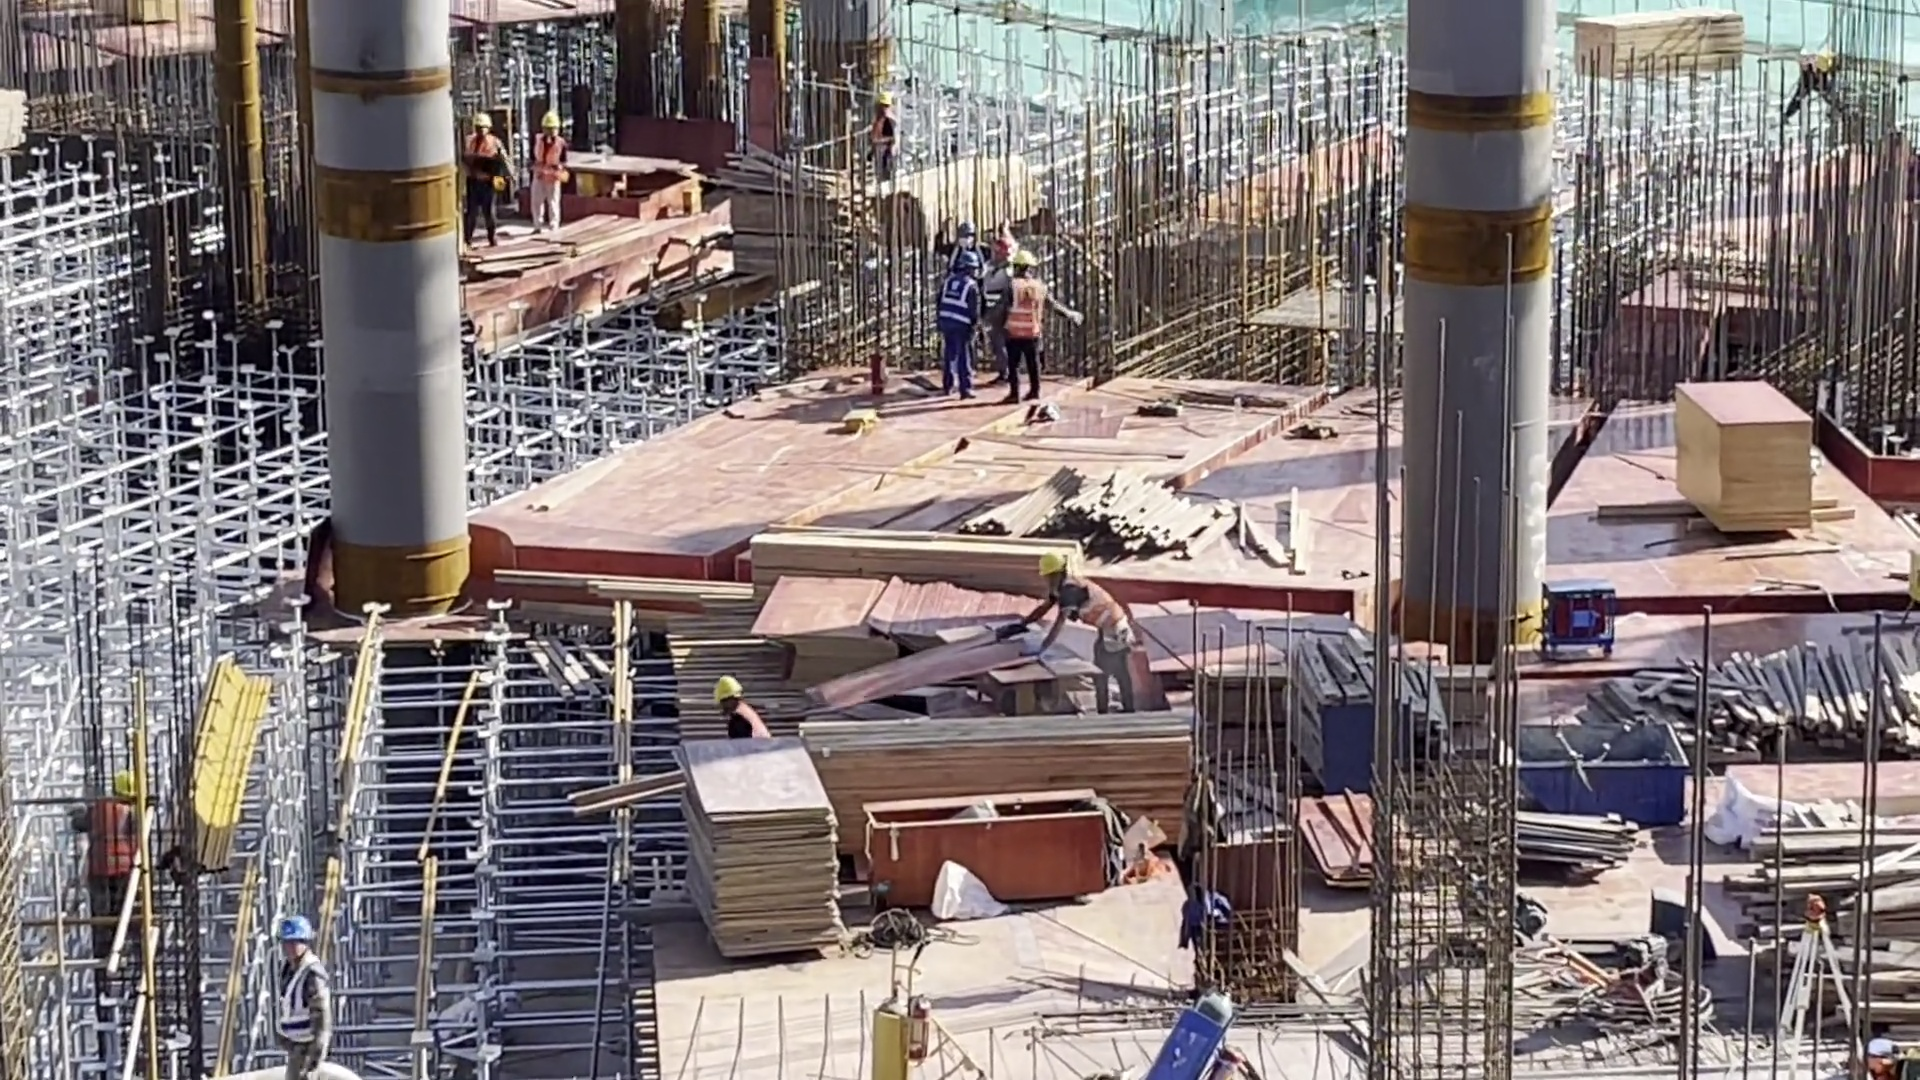board: (678, 739, 837, 970), (1672, 378, 1815, 538), (747, 577, 880, 690), (1297, 782, 1381, 887)
cutter: (943, 619, 1095, 726), (548, 149, 703, 225)
ebox: (1900, 543, 1920, 632)
helmet: (274, 911, 317, 941), (1034, 551, 1067, 590), (713, 674, 743, 700), (1010, 248, 1039, 270), (955, 251, 979, 273), (470, 111, 492, 128), (873, 90, 895, 106), (540, 111, 560, 128), (952, 221, 973, 237)
hopper: (1509, 720, 1692, 822)
person: (1036, 549, 1137, 713), (999, 245, 1081, 404), (273, 910, 332, 1080), (69, 767, 137, 908), (456, 112, 524, 251), (934, 253, 980, 400), (1778, 39, 1858, 118), (527, 110, 568, 234), (710, 674, 770, 736), (871, 89, 900, 159), (930, 215, 983, 252)
vest: (274, 958, 324, 1056), (1062, 575, 1126, 645), (939, 276, 979, 337), (1007, 278, 1043, 339), (461, 134, 499, 181), (531, 134, 564, 182), (728, 707, 769, 739), (872, 109, 899, 147)
wood: (1551, 641, 1920, 775), (1728, 825, 1920, 1068), (959, 464, 1299, 572), (798, 719, 1196, 806), (742, 533, 1080, 592), (726, 151, 872, 286), (873, 154, 1040, 245), (1571, 9, 1744, 80), (1, 87, 31, 151)
